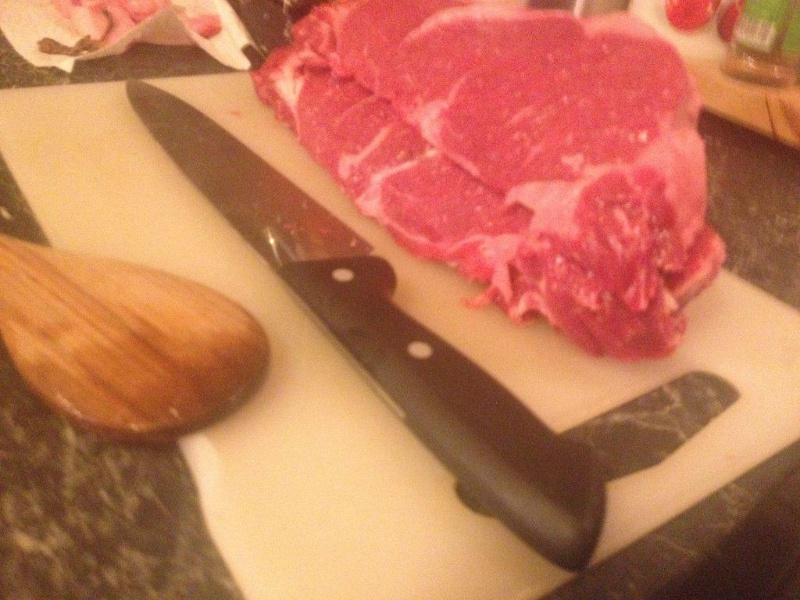knife: (120, 71, 612, 575)
